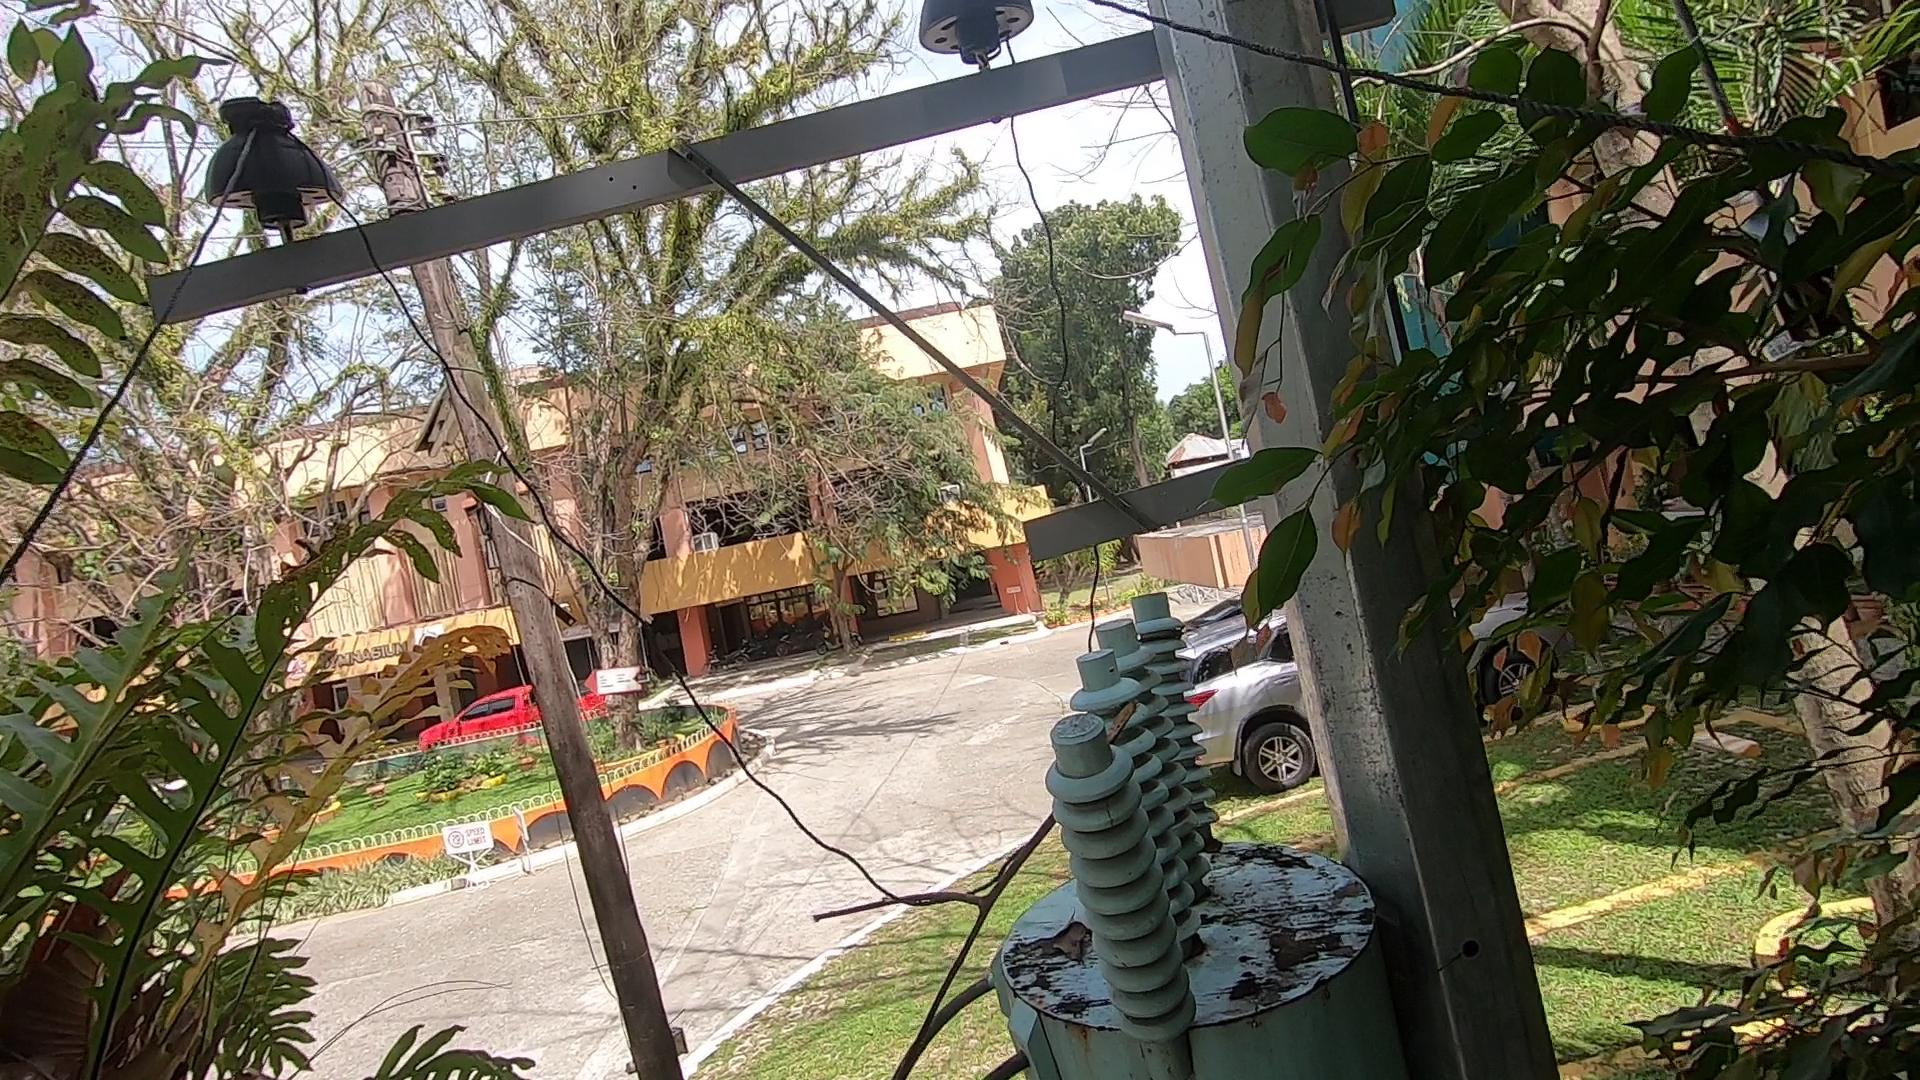leaf: (1035, 909, 1110, 986)
tree branch: (779, 694, 1156, 1080)
